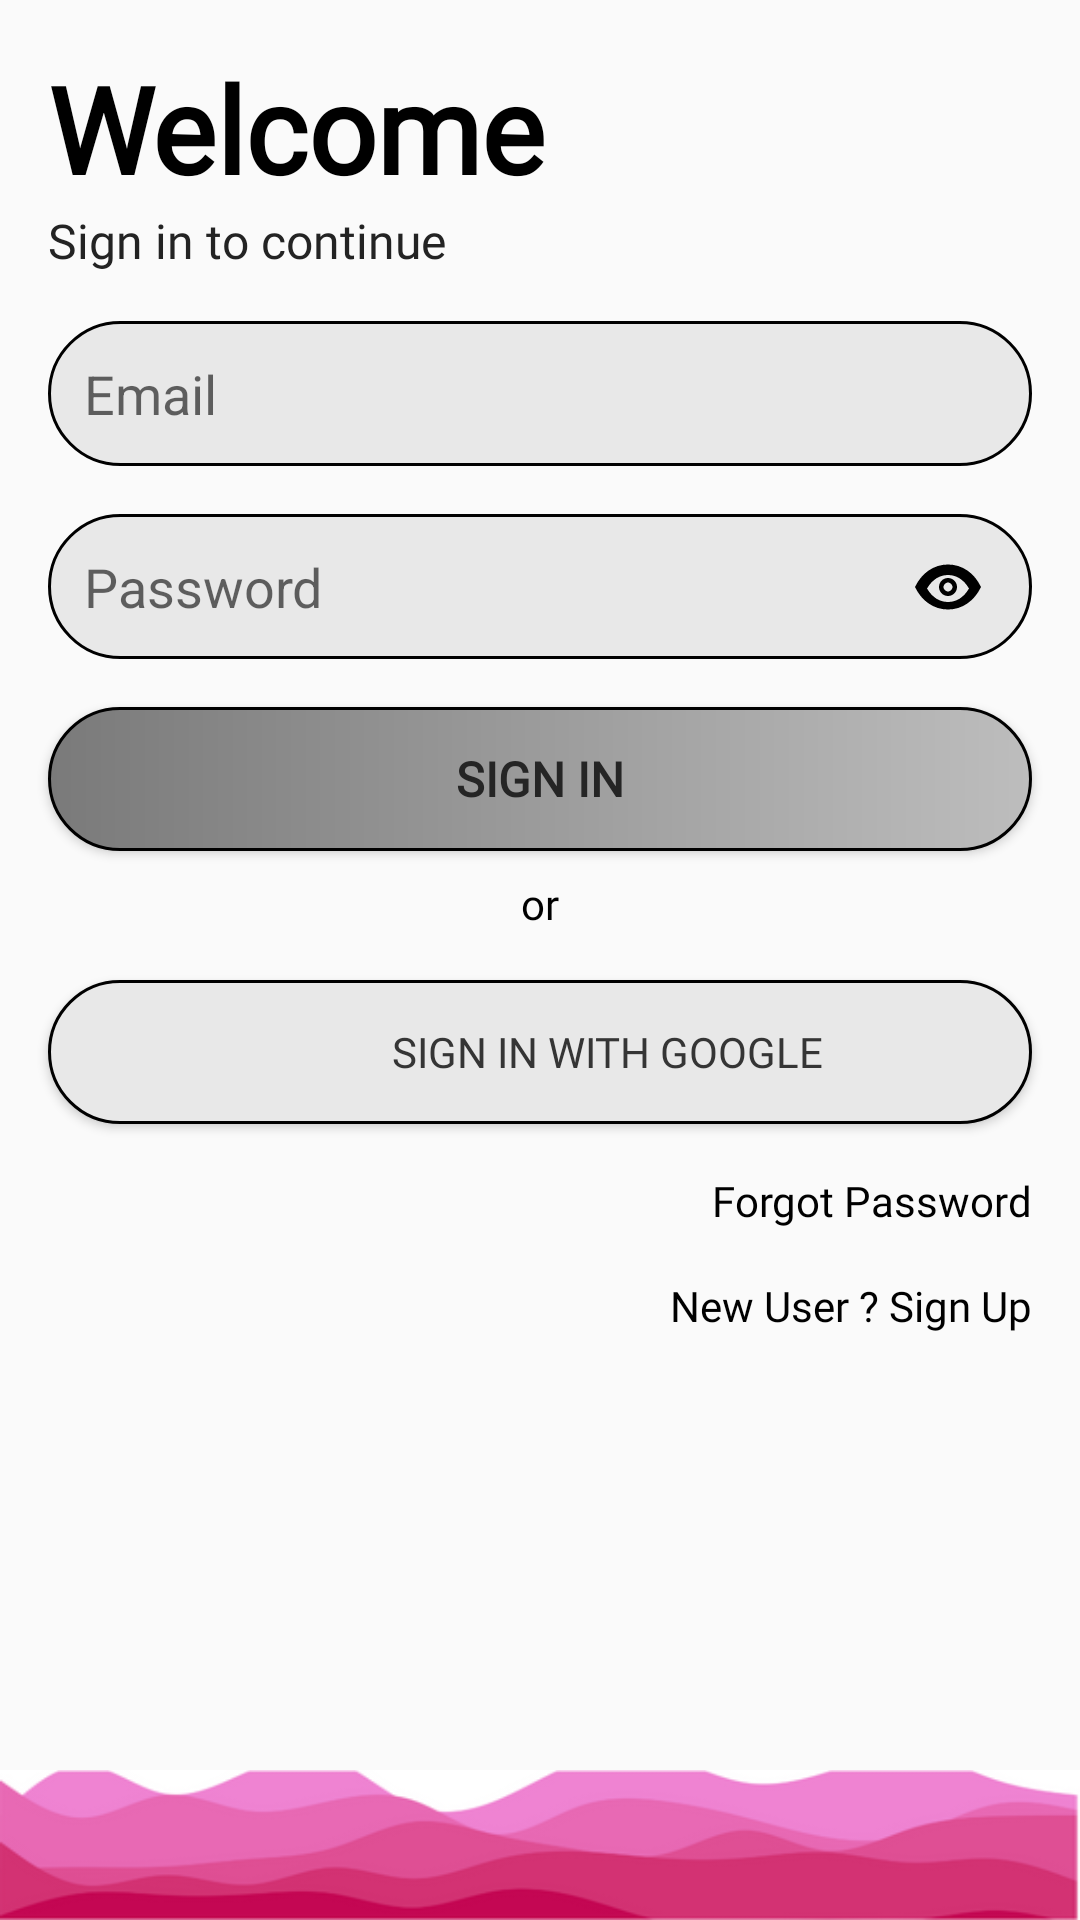

Named icons in this screenshot (1080x1920) and their centers, (x,y):
eye: (948,587)
